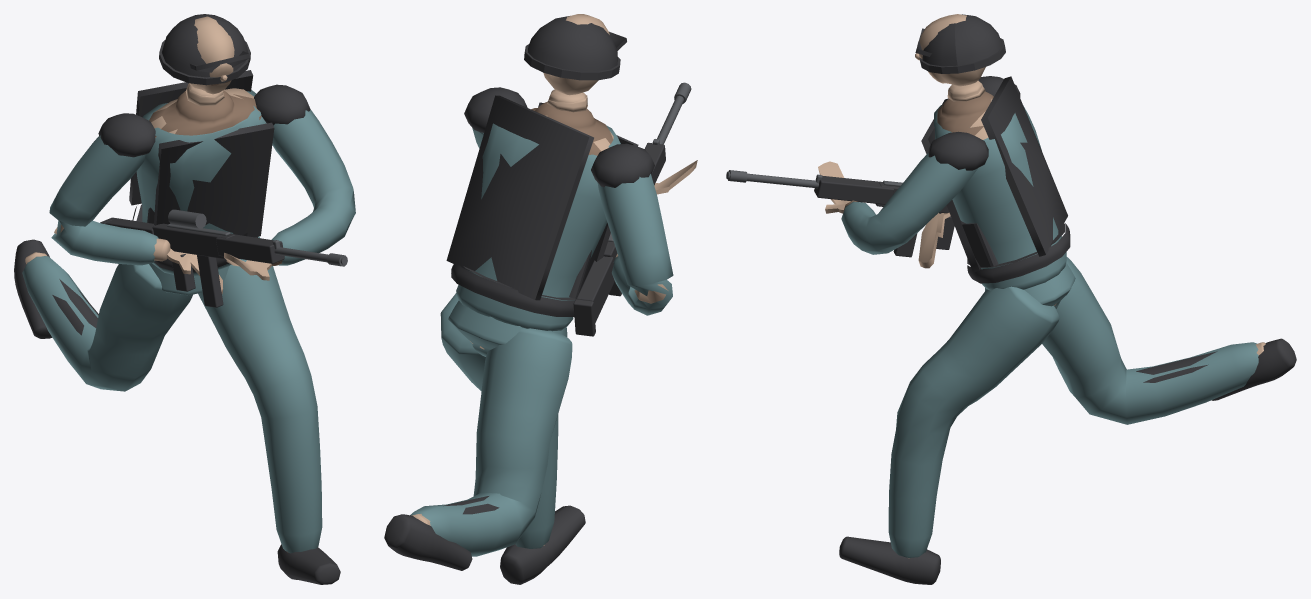
The model's file is tactical-shooter-hill-town-assault-trooper-running-fe5f7050__27569.glb.
3 renders of one model, left to right at view 1: azimuth 30°, elevation 25°; view 2: azimuth 150°, elevation 25°; view 3: azimuth 270°, elevation 25°, orthographic. The views are drawn at different scales.
Parts seen in each view (by area): view 1: assault-trooper-running; view 2: assault-trooper-running; view 3: assault-trooper-running.
Boxes of the visible parts, x1,y1,x2,y2 form: assault-trooper-running: [14, 14, 355, 584]; assault-trooper-running: [384, 14, 697, 584]; assault-trooper-running: [726, 14, 1296, 584].
Size of the model in its own units: 0.7293 by 1.67 by 1.62.
